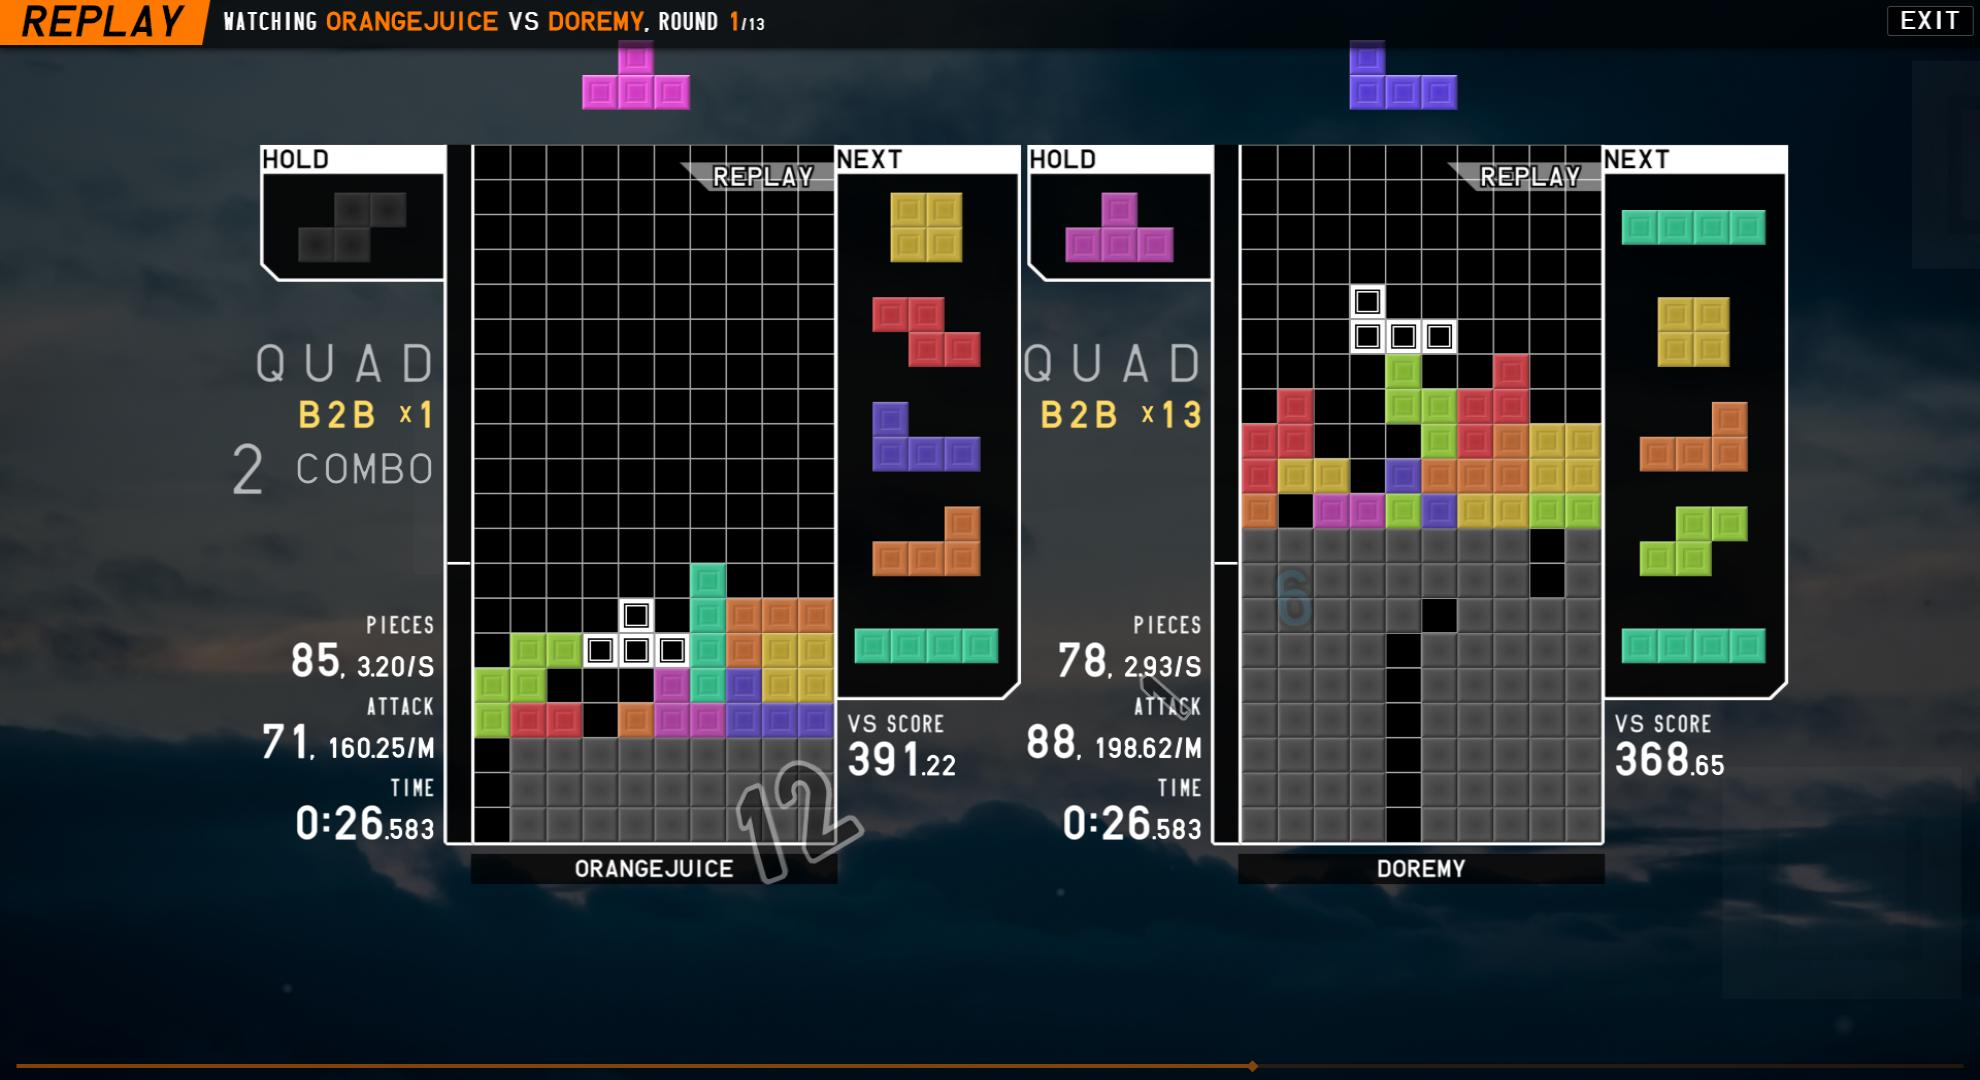tspin: (1303, 390, 1431, 500), (548, 633, 660, 741)
